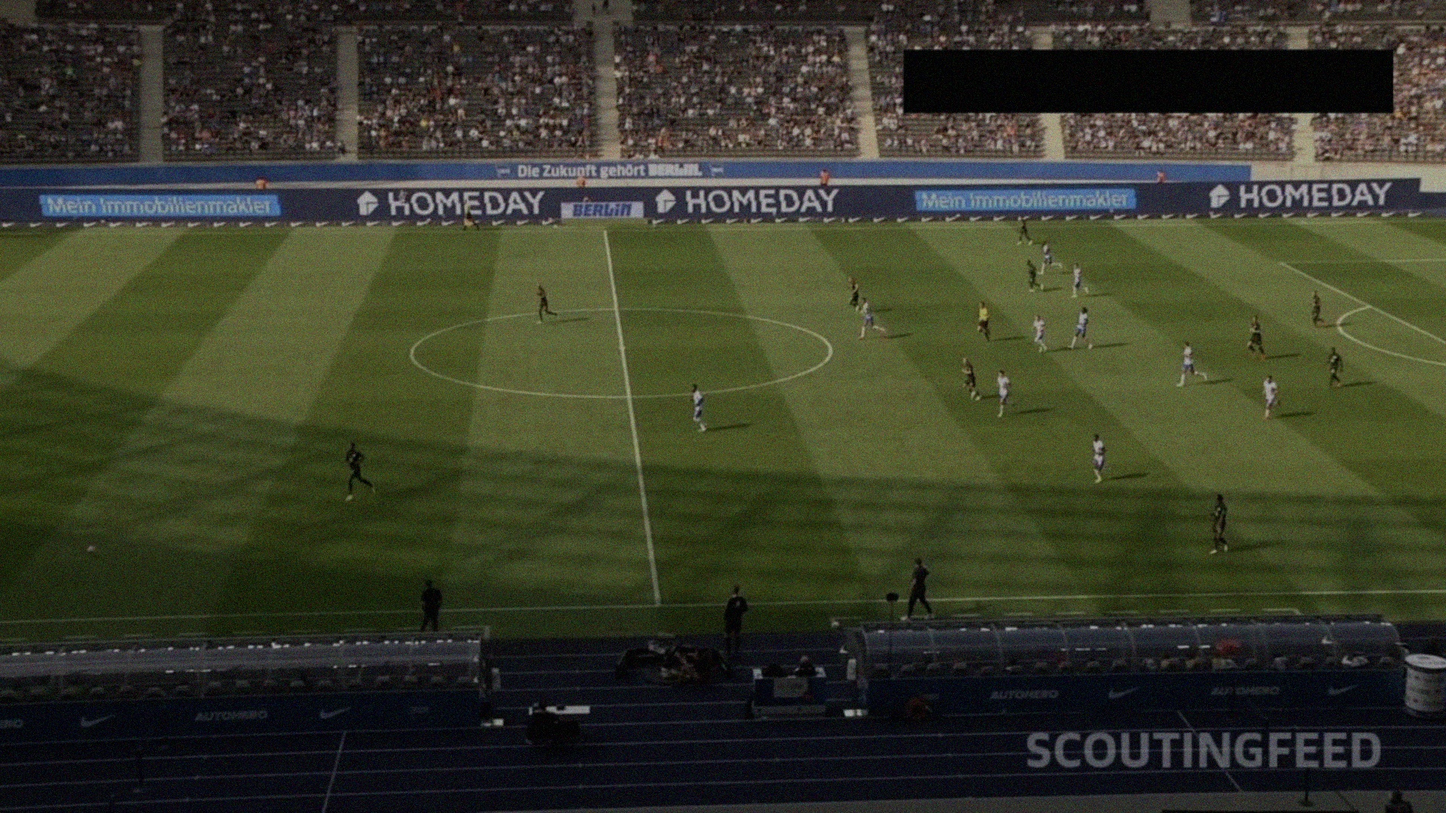ball: (86, 546, 98, 558)
player: (345, 438, 377, 502), (1176, 343, 1206, 386), (1209, 495, 1230, 553), (688, 384, 711, 431), (535, 283, 559, 324), (1069, 308, 1092, 349), (996, 370, 1015, 417), (962, 357, 982, 400), (860, 301, 883, 338), (1039, 242, 1063, 274), (1263, 376, 1280, 417), (1326, 348, 1343, 389), (1093, 435, 1107, 483), (1249, 317, 1264, 358), (847, 276, 864, 312), (1072, 263, 1089, 299), (1033, 315, 1048, 352), (1027, 260, 1043, 291), (1310, 291, 1323, 326), (1017, 217, 1031, 246)
referee: (977, 302, 992, 342), (462, 197, 479, 231)
